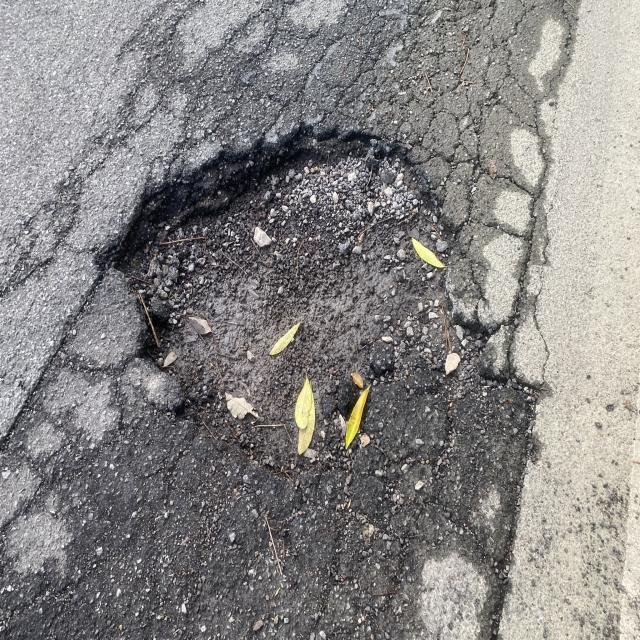pothole: (100, 110, 507, 456)
